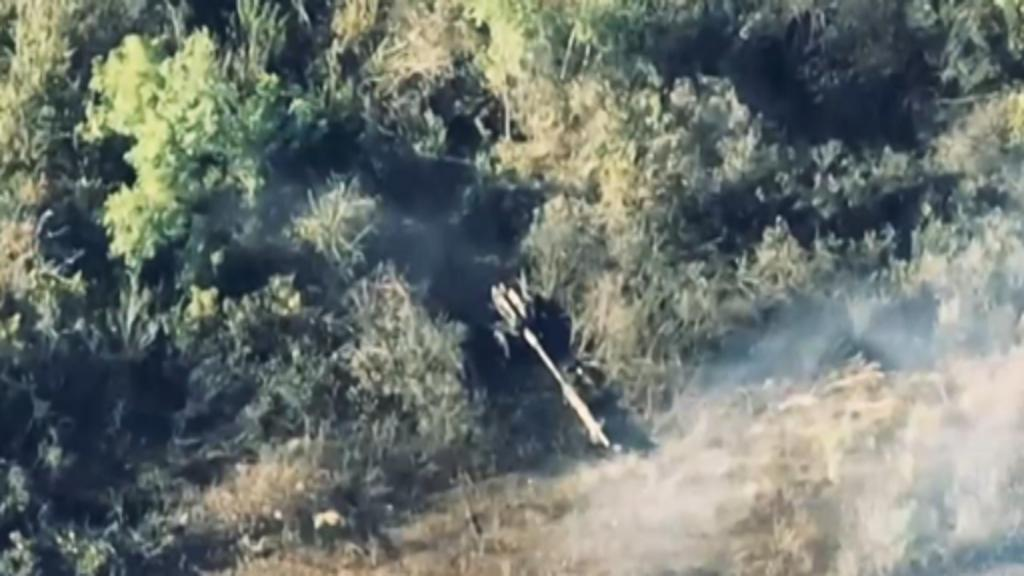ART: (482, 273, 622, 455)
